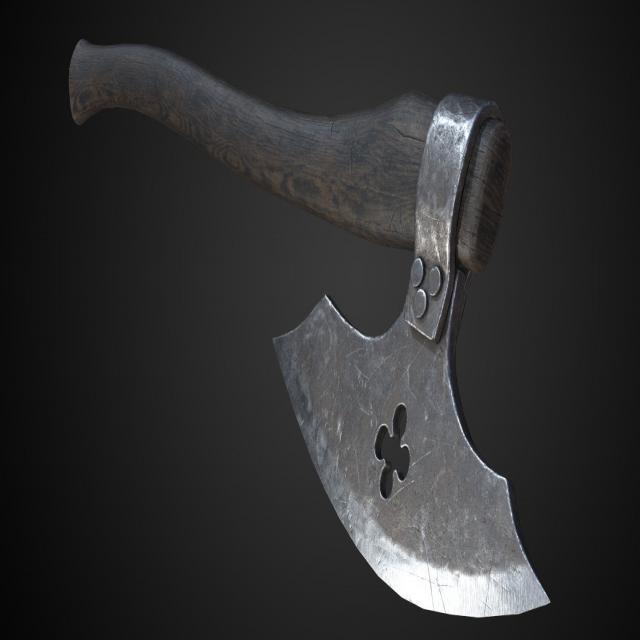axe: (65, 35, 555, 619)
